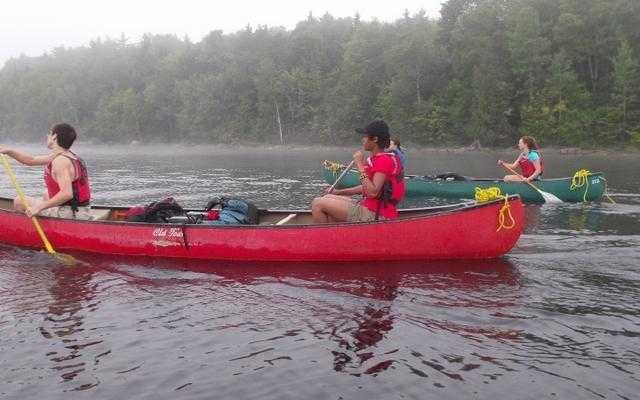kayak: (0, 186, 528, 266), (429, 171, 607, 204), (529, 172, 607, 204)
